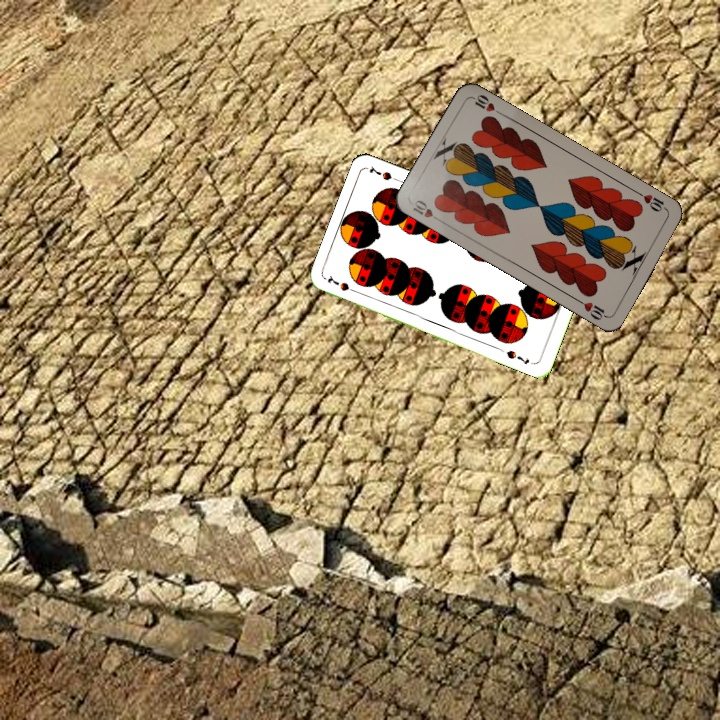H10: (409, 196, 445, 225), (633, 188, 670, 214)
S7: (323, 272, 362, 296)
